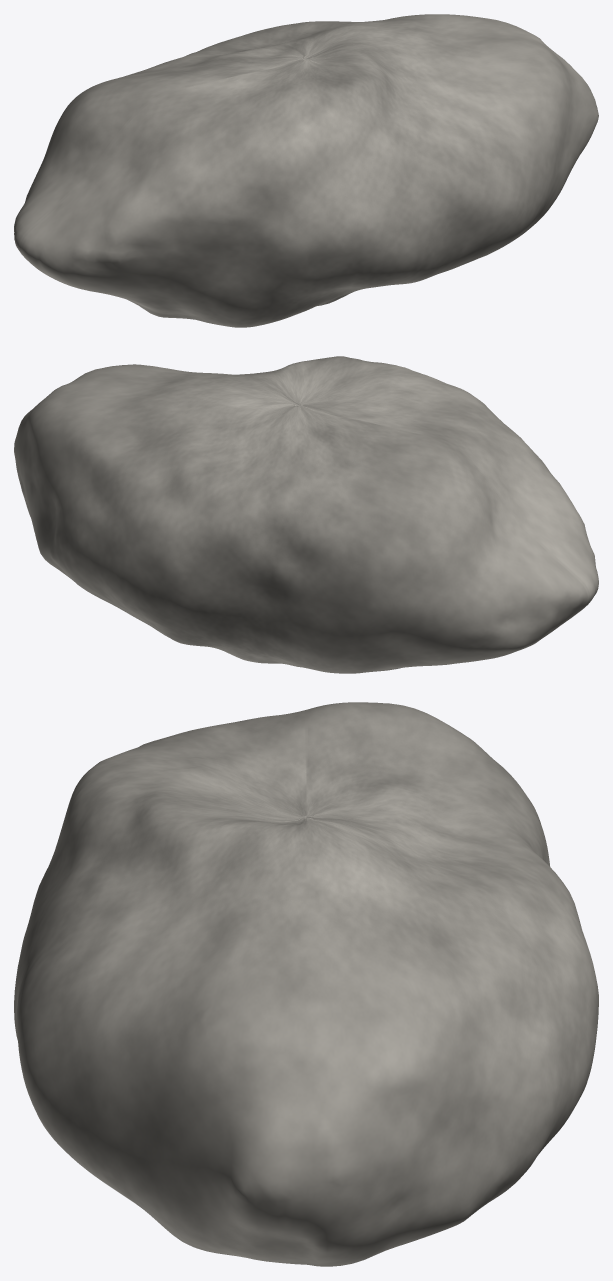
The picture shows the model from 3 angles, top to bottom: view 1: azimuth 30°, elevation 25°; view 2: azimuth 150°, elevation 25°; view 3: azimuth 270°, elevation 25°; orthographic projection. The views are drawn at different scales.
Parts seen in each view (by area): view 1: Prometheus; view 2: Prometheus; view 3: Prometheus.
Boxes of the visible parts, x1=… form: Prometheus: x1=14, y1=14, x2=598, y2=327; Prometheus: x1=14, y1=356, x2=598, y2=673; Prometheus: x1=14, y1=702, x2=598, y2=1266.
Bounding box in the file's own units: 143 × 58.89 × 83.45.
Materials: 1 (1 with a texture image).
